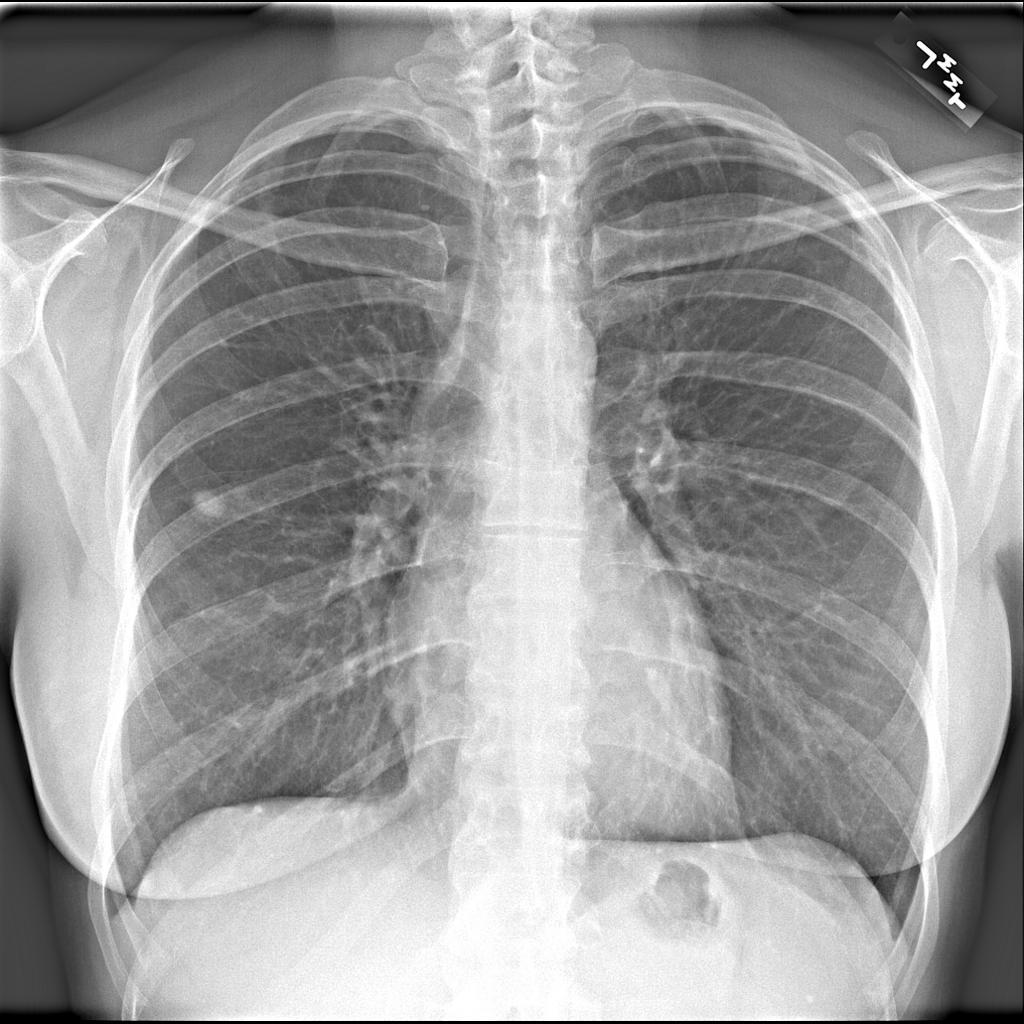Nodule: (185, 477, 241, 533)
